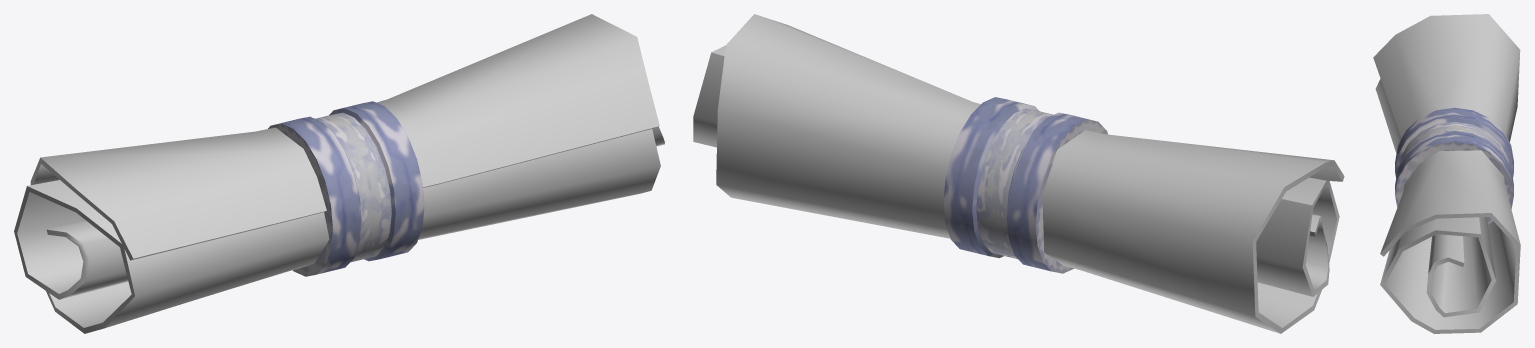
The model's file is Scroll_2.obj.
3 renders of one model, left to right at view 1: azimuth 30°, elevation 25°; view 2: azimuth 150°, elevation 25°; view 3: azimuth 270°, elevation 25°, orthographic. The views are drawn at different scales.
Visible parts, largest first — view 1: Scroll_2_Cube.156; view 2: Scroll_2_Cube.156; view 3: Scroll_2_Cube.156.
Boxes of the visible parts, x1,y1,x2,y2 form: Scroll_2_Cube.156: (14, 14, 664, 333); Scroll_2_Cube.156: (693, 14, 1344, 333); Scroll_2_Cube.156: (1373, 14, 1520, 333).
Size of the model in its own units: 0.2329 by 0.0587 by 0.0637.
2 materials, 1 textured.
